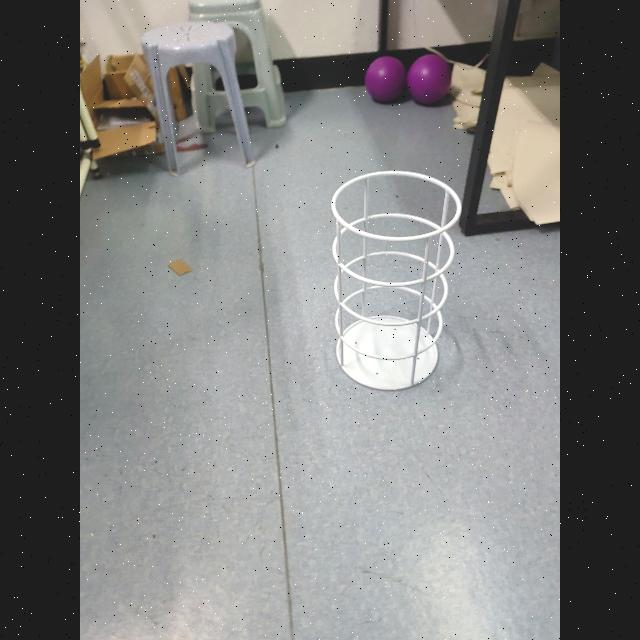S: (326, 167, 464, 396)
